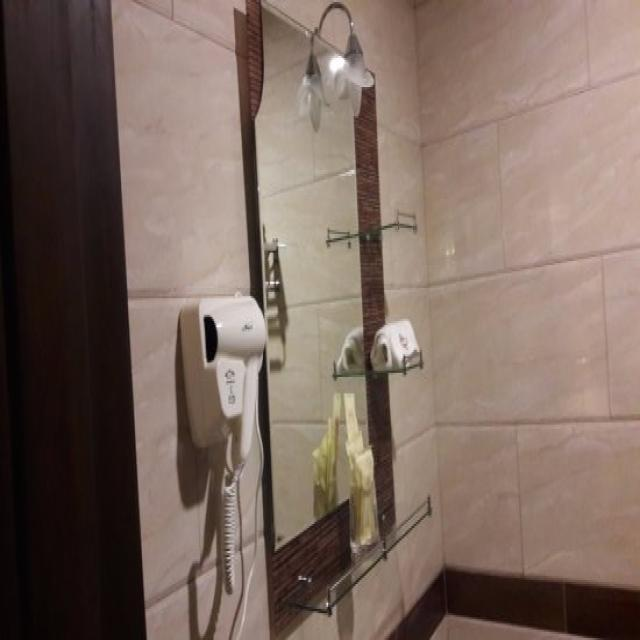dryer: (173, 282, 274, 599)
